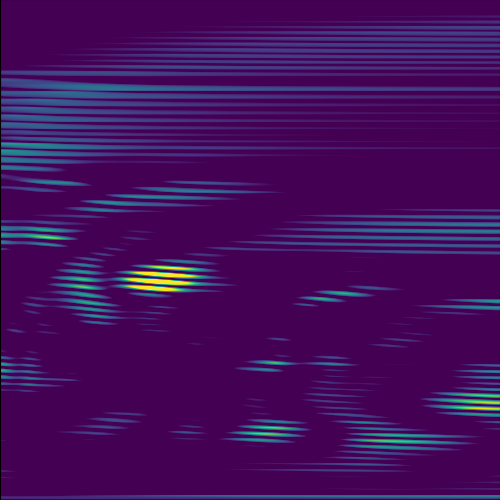semblance: (108, 264, 229, 295), (416, 386, 500, 424)
